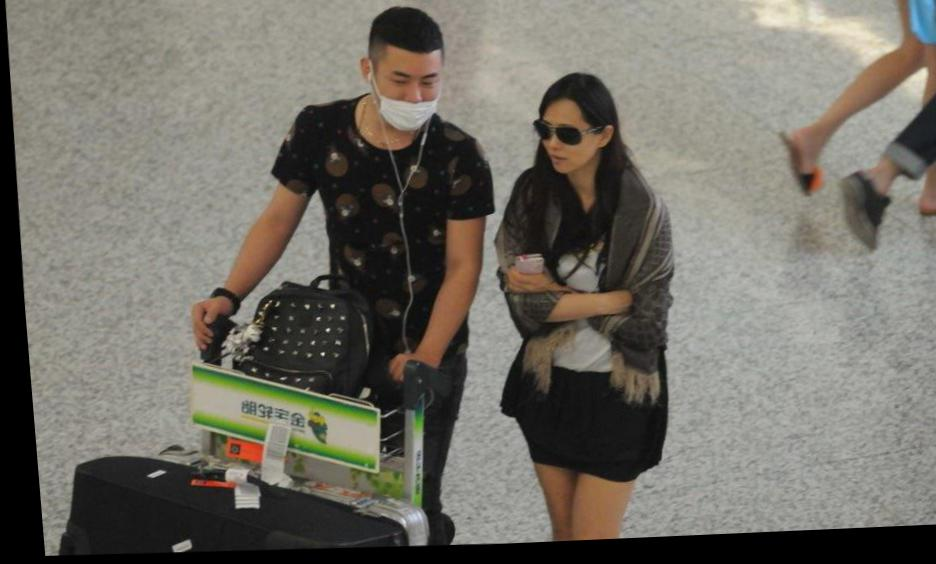NONE: (530, 115, 599, 185)
WRONG: (376, 70, 444, 137)
